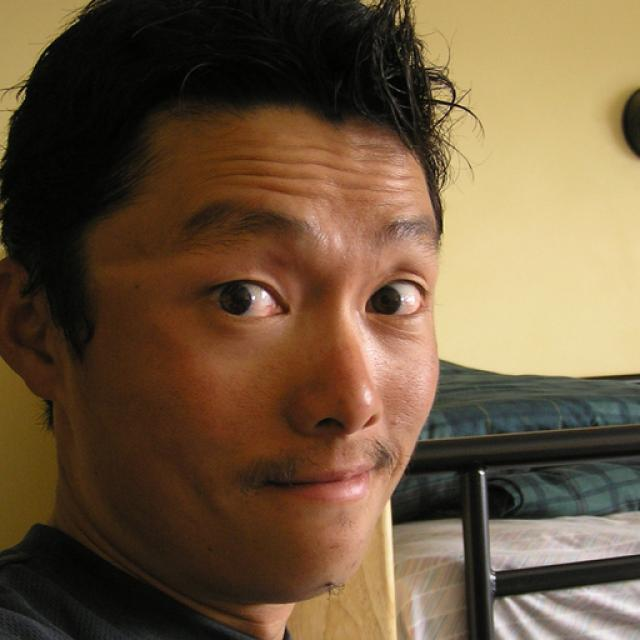surprise: (74, 92, 438, 606)
